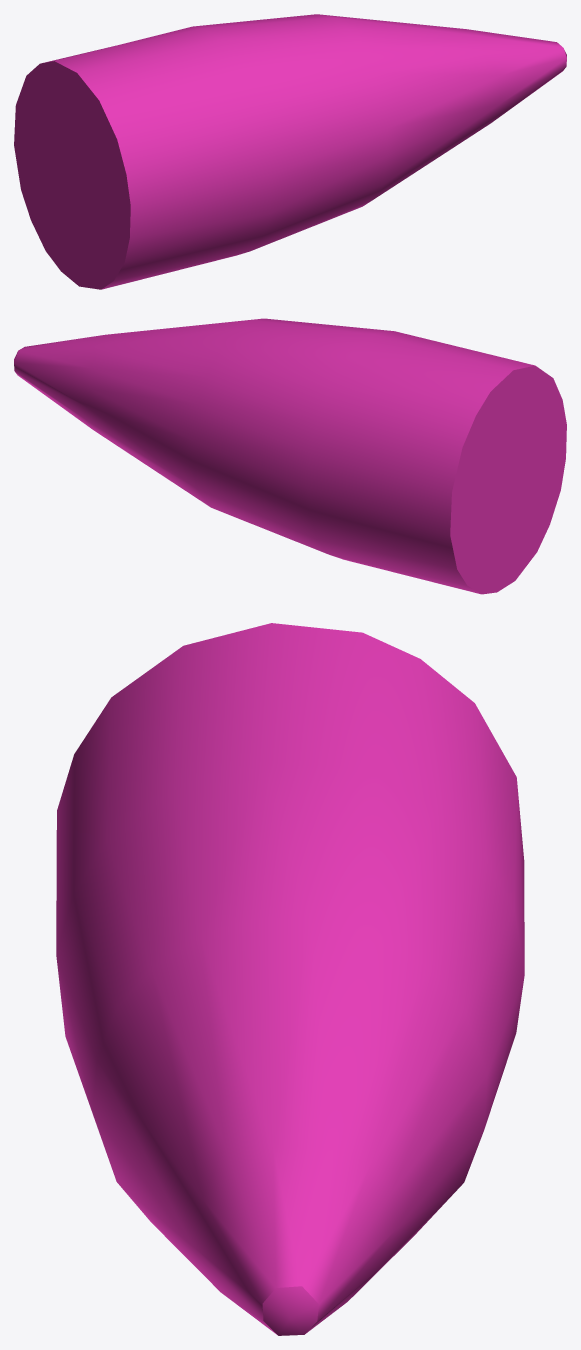
Rendered from bala_antimateria.obj.
The picture shows the model from 3 angles, top to bottom: view 1: azimuth 30°, elevation 25°; view 2: azimuth 150°, elevation 25°; view 3: azimuth 270°, elevation 25°; orthographic projection. The views are drawn at different scales.
Size of the model in its own units: 0.0556 by 0.0228 by 0.0228.
